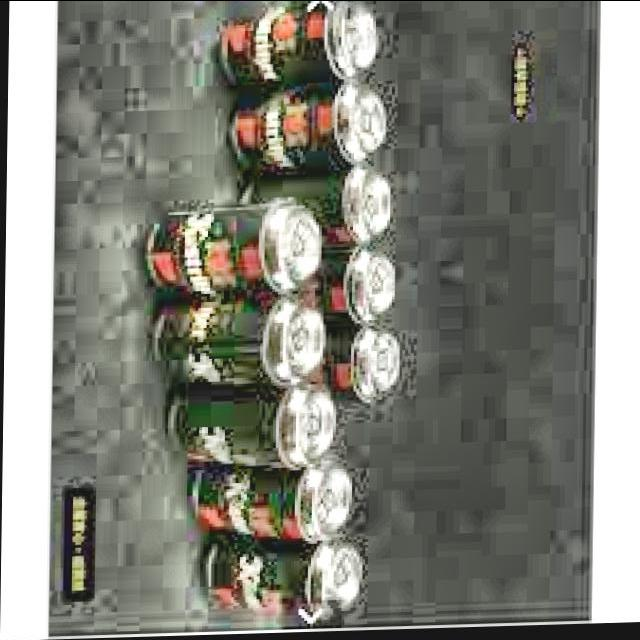litter: (144, 196, 328, 310), (150, 292, 330, 399), (166, 379, 340, 476), (190, 454, 366, 548), (204, 529, 366, 630), (212, 0, 380, 95), (243, 160, 401, 256), (230, 80, 390, 172), (311, 322, 409, 410), (311, 244, 408, 328)
